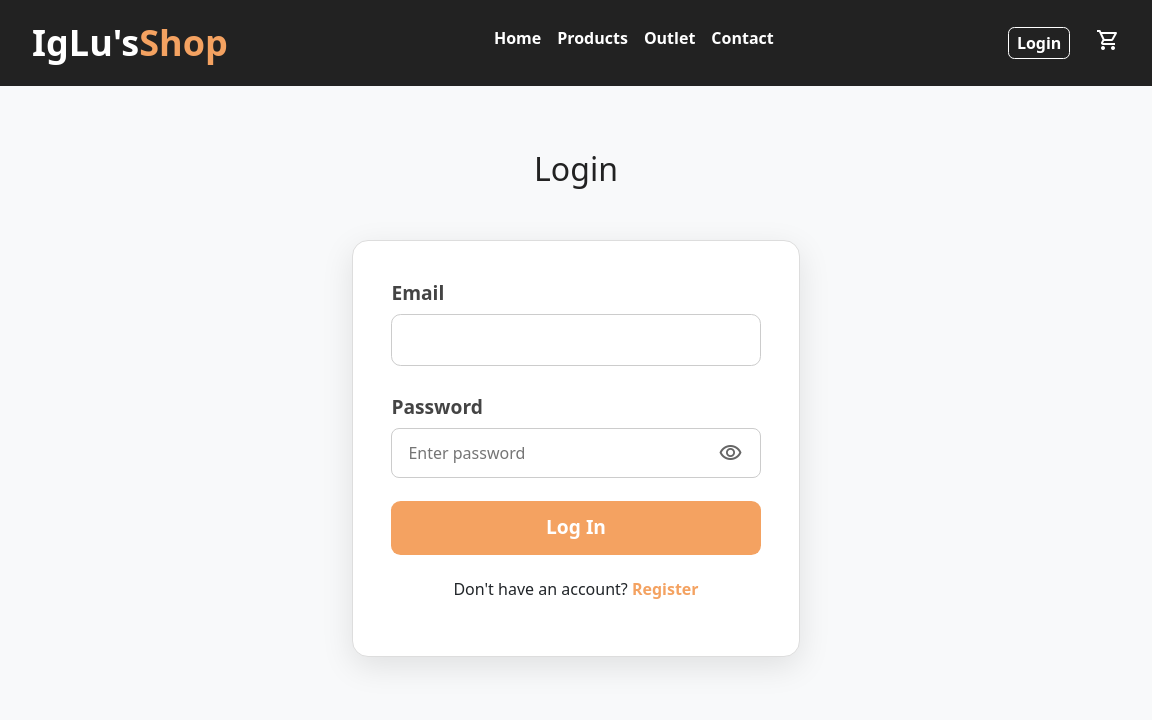
Test: Login and Logout › Displays error with invalid credentials
The image size is (1152, 720).
Type "user_prueba@iglusshop.com" into the field named "email" at (576, 340), box [391,314,760,366]
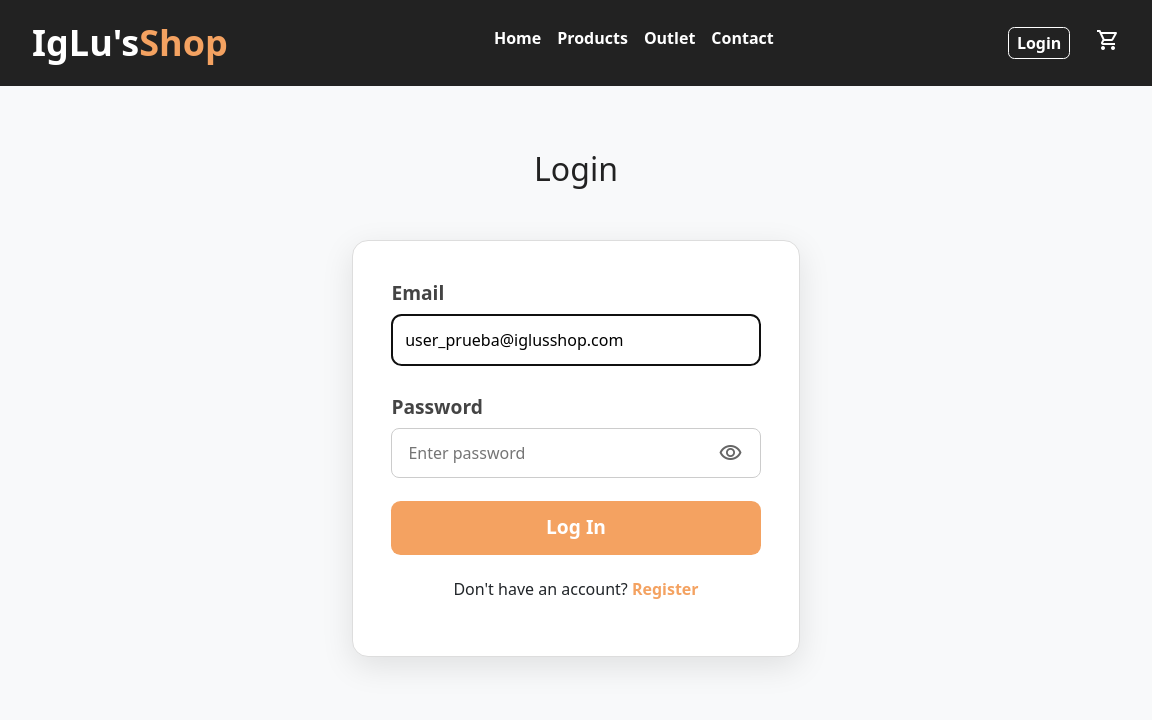
Type "contraseñaincorrecta" into the password field named "password" at (576, 453), box [391,428,760,478]
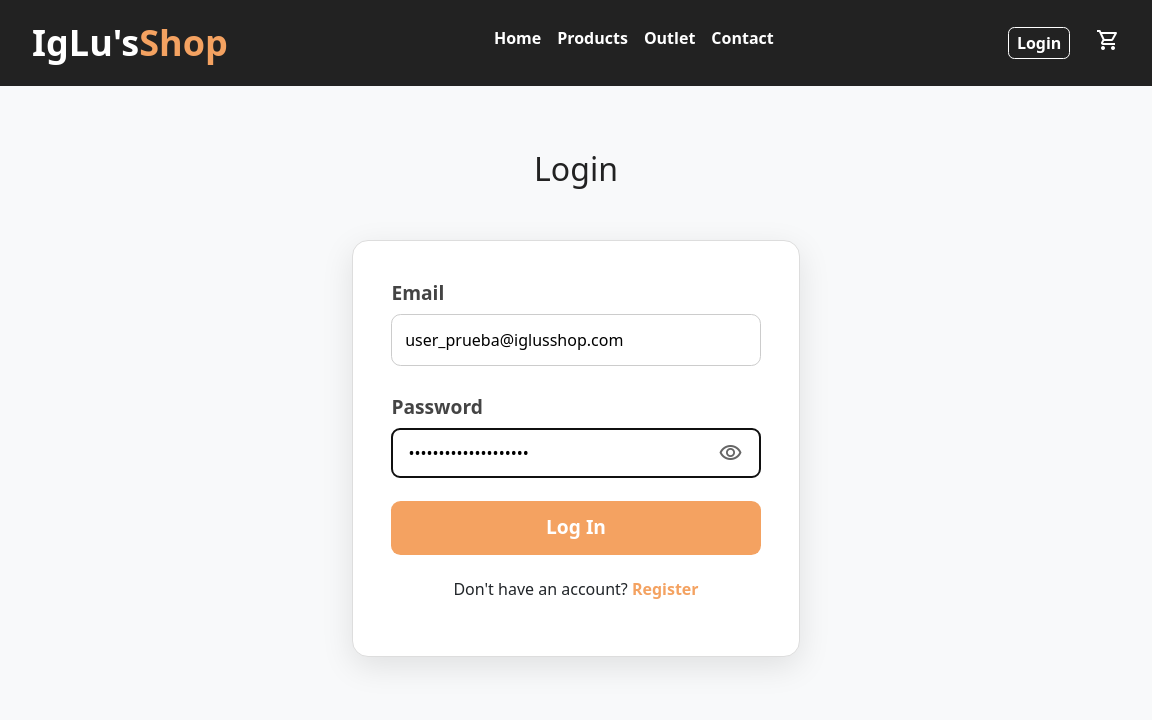
Click the button "Log In" at (576, 528), box [391,501,760,555]
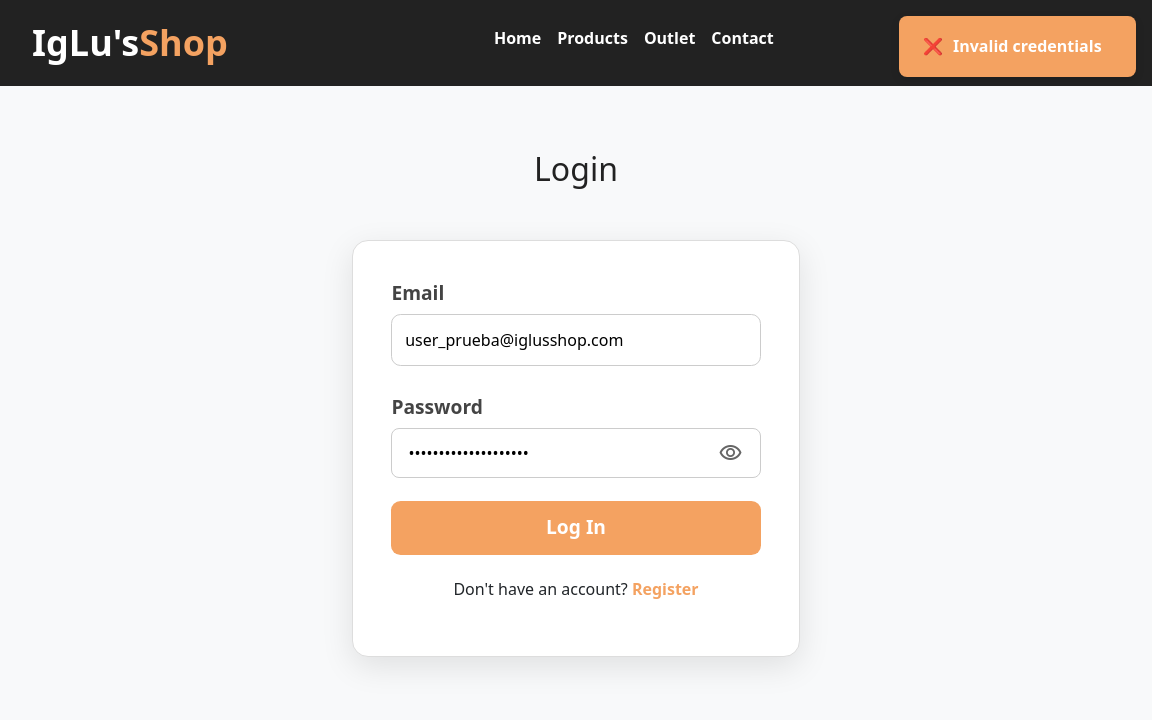
Now the text "Invalid credentials" is shown, box [953,36,1102,57]
